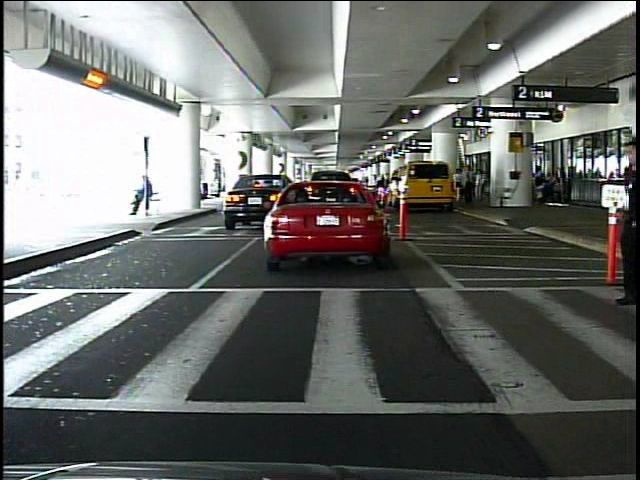person: (608, 136, 639, 306)
